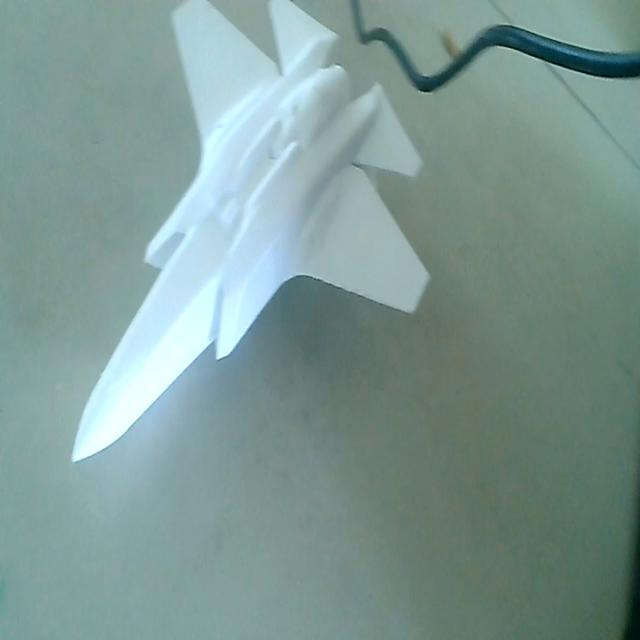Jet: (66, 0, 432, 492)
